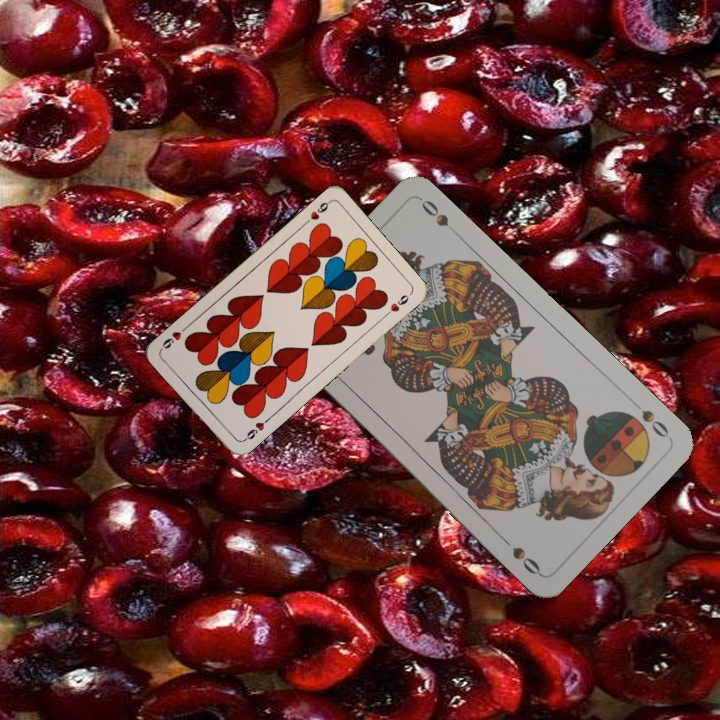H9: (238, 414, 272, 445), (300, 197, 333, 228)
SO: (627, 395, 672, 441)
